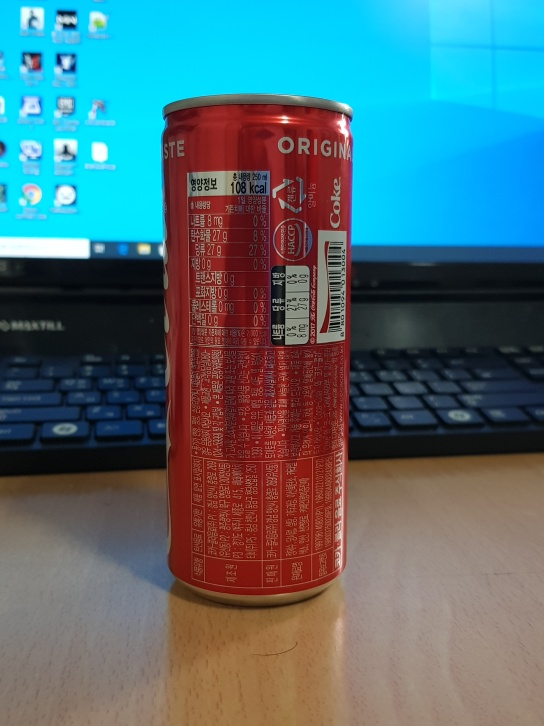Can: (156, 89, 355, 609)
